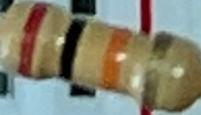Black: (55, 13, 93, 79)
Orange: (97, 25, 136, 91)
Red: (13, 0, 55, 79)
Side-Gold: (138, 30, 176, 108)
